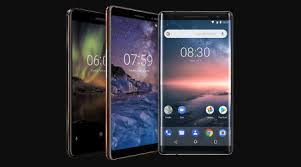nokia: (155, 7, 232, 160)
